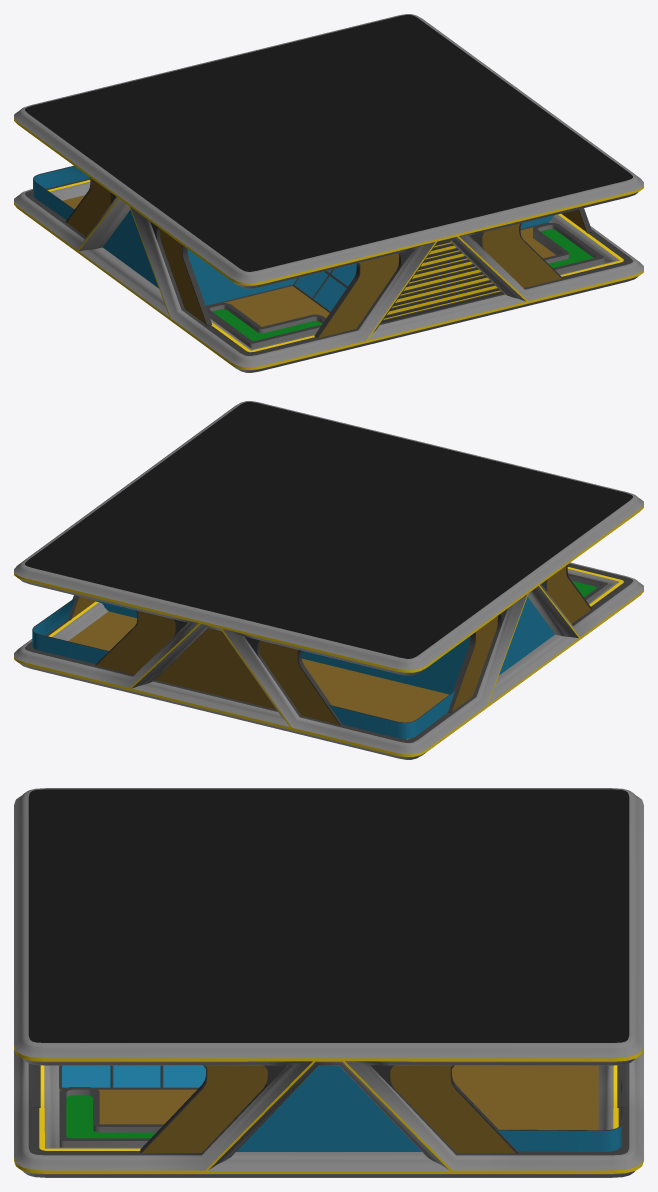
File: SM_MK9_Building_Middle_003.fbx
3 views of the same model, one above another, from view 1: azimuth 30°, elevation 25°; view 2: azimuth 150°, elevation 25°; view 3: azimuth 270°, elevation 25° (orthographic). The views are drawn at different scales.
Visible parts, largest first — view 1: SM_MK9_Building_Middle_003; view 2: SM_MK9_Building_Middle_003; view 3: SM_MK9_Building_Middle_003.
Part boxes in pixels (x1,y1,x2,y2): SM_MK9_Building_Middle_003: (14,14,643,372); SM_MK9_Building_Middle_003: (14,401,643,759); SM_MK9_Building_Middle_003: (14,788,643,1177).
Bounding box in the file's own units: 2137 × 500 × 2137.
